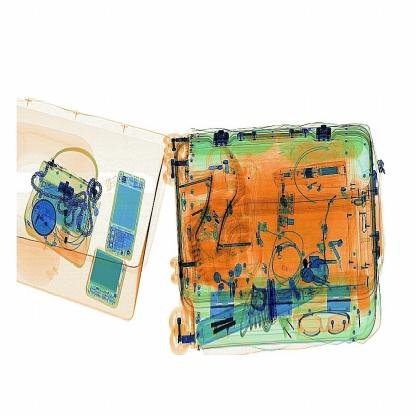scissors: (260, 271, 286, 327)
